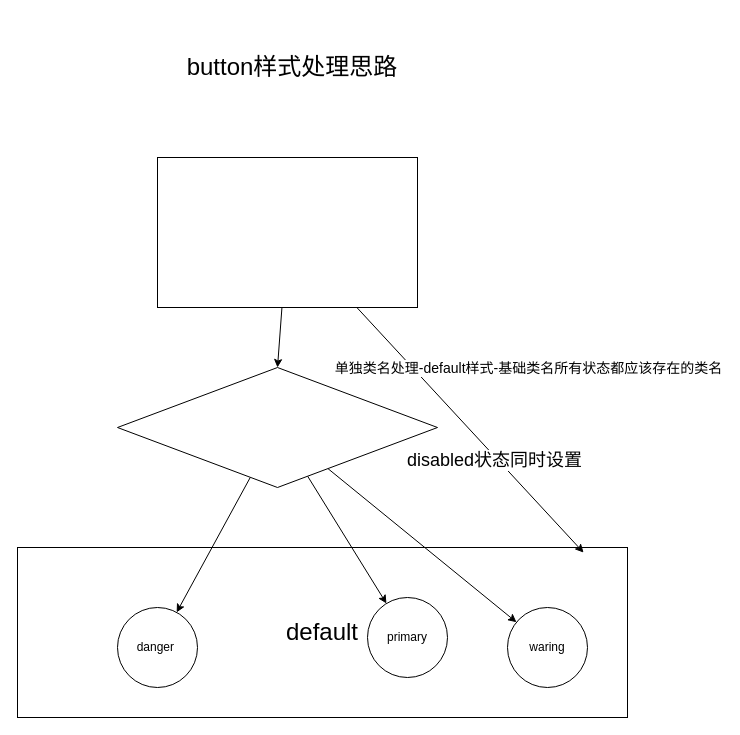
Image size: 740x735. Some labels were removed from this diagram. Here are the shapes that lost their labels. From the top down, the centre of each, then its label:
the point at 287,232: 在全局scss样式变量文件中保存尽量全面的样式变量--包含所有组件状态的样式变量
the point at 277,427: 对于不同状态和大小的mixin函数
